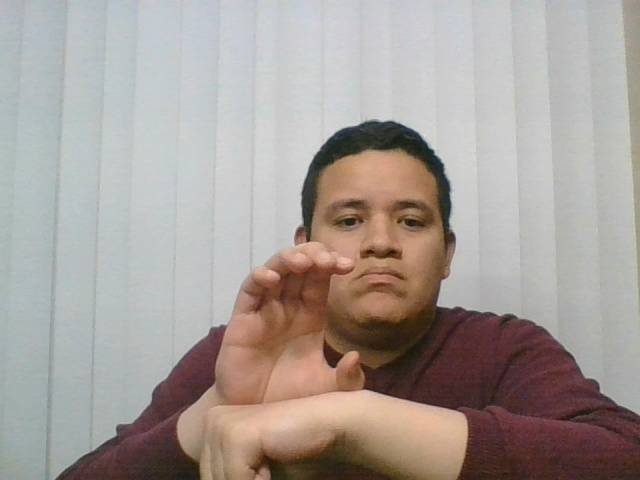Church: (170, 228, 370, 480)
